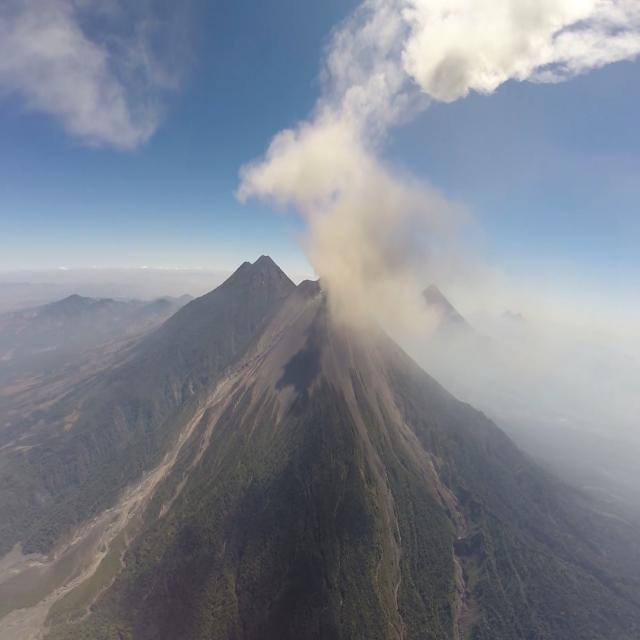Plume: (242, 116, 466, 358), (8, 0, 194, 161), (396, 2, 633, 102)
